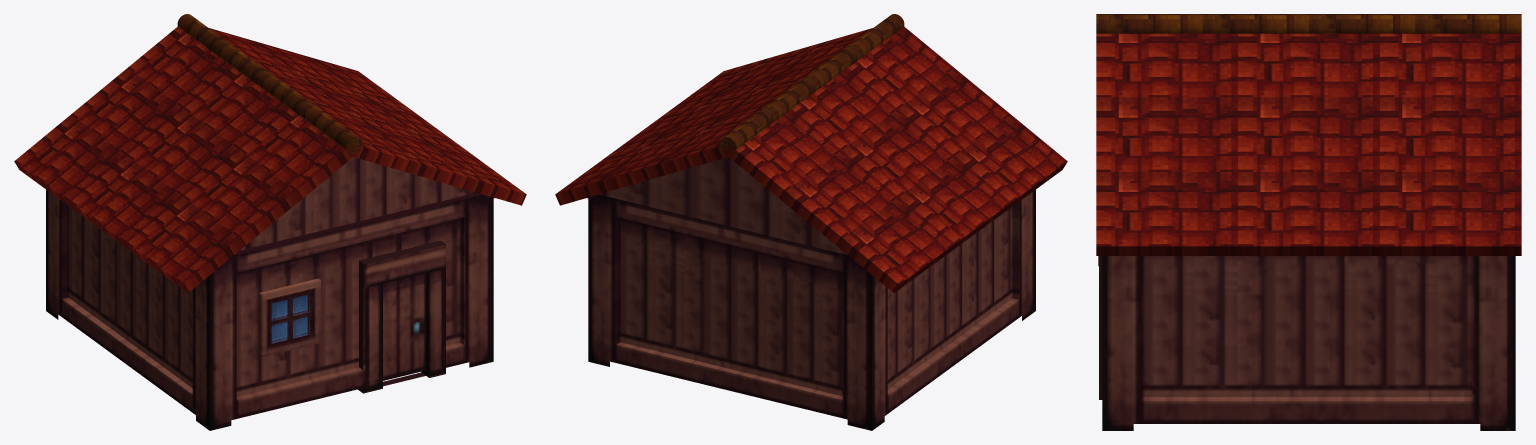
File: house.glb
3 renders of one model, left to right at view 1: azimuth 30°, elevation 25°; view 2: azimuth 150°, elevation 25°; view 3: azimuth 270°, elevation 25°, orthographic. The views are drawn at different scales.
Parts seen in each view (by area): view 1: Plane.005, Walls, door, Plane.002, Plane.004, Cylinder; view 2: Walls, Plane.005, Plane.001, Cylinder; view 3: Plane.005, Walls, Cylinder, door.
Part boxes in pixels (x1,y1,x2,y2): Plane.005: (14,26,526,292); Walls: (46,189,493,430); door: (358,240,445,393); Plane.002: (240,157,494,250); Plane.004: (258,278,320,357); Cylinder: (177,14,362,154); Walls: (588,189,1035,430); Plane.005: (555,26,1067,292); Plane.001: (587,157,846,254); Cylinder: (719,14,904,152); Plane.005: (1096,33,1521,255); Walls: (1102,256,1515,430); Cylinder: (1096,14,1521,33); door: (1098,256,1102,399).
Size of the model in its own units: 4.24 by 3.07 by 3.6.
10 materials, 10 textured.
